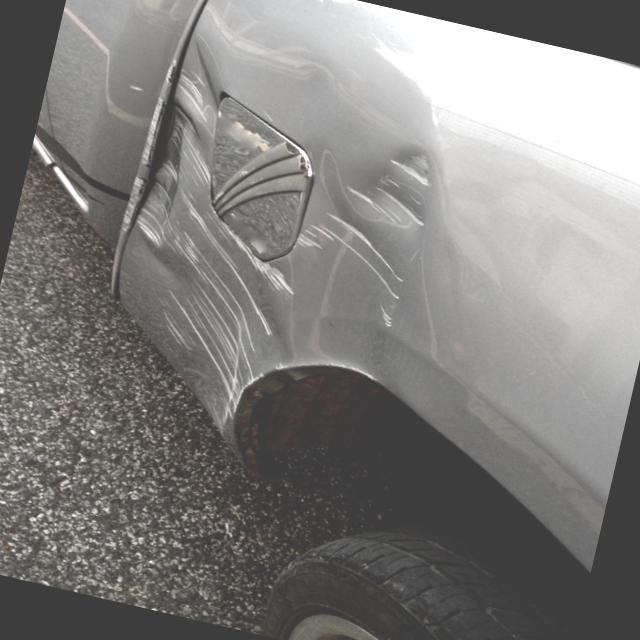Rayure: (65, 187, 305, 452), (271, 84, 466, 350), (147, 61, 230, 203)
